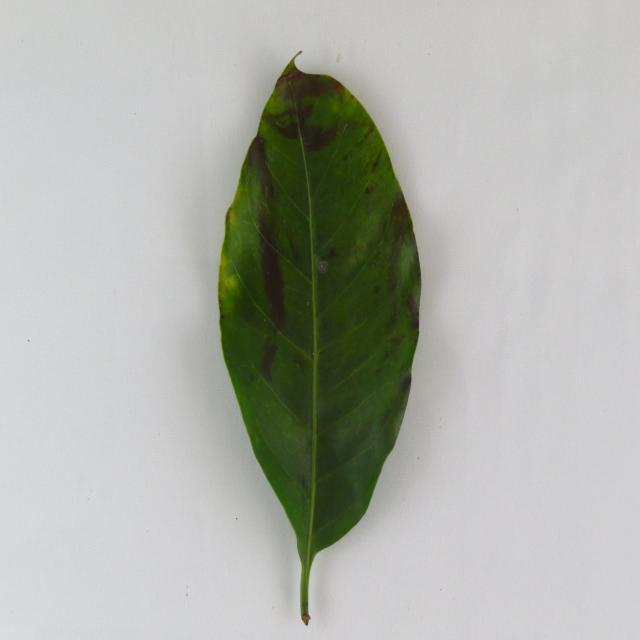DeficienciaNutricional-Boro: (219, 58, 421, 625)
